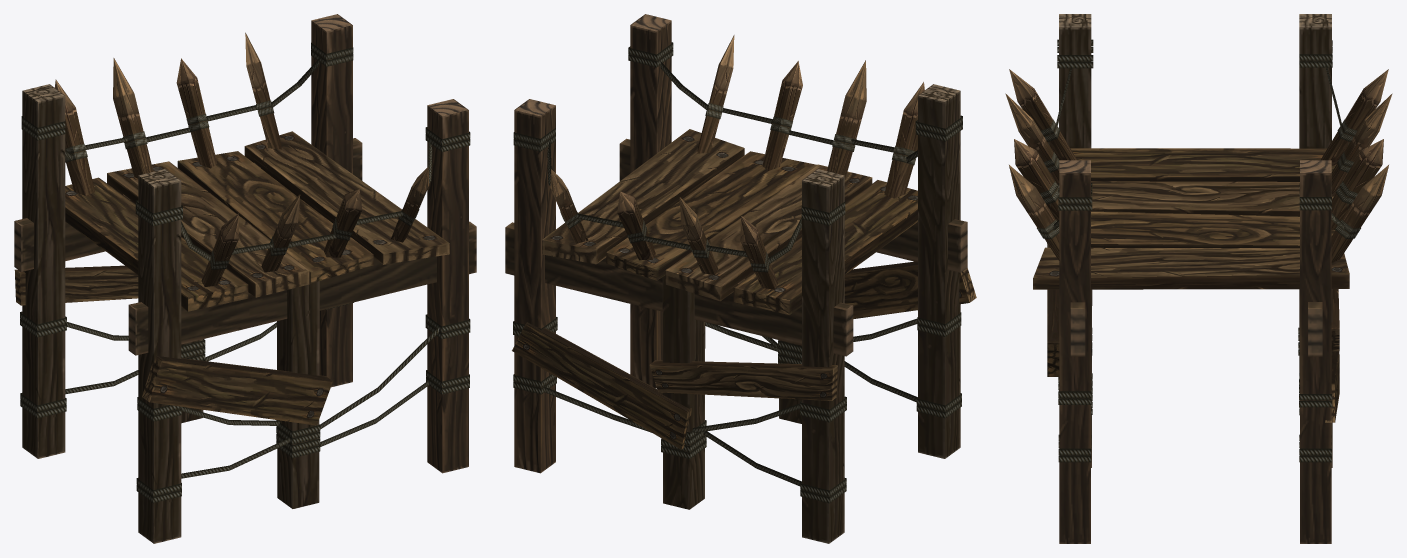
Rendered from mobile_scaffolding_02.fbx.
3 renders of one model, left to right at view 1: azimuth 30°, elevation 25°; view 2: azimuth 150°, elevation 25°; view 3: azimuth 270°, elevation 25°, orthographic. The views are drawn at different scales.
Visible parts, largest first — view 1: mobile_scaffolding_02; view 2: mobile_scaffolding_02; view 3: mobile_scaffolding_02.
Boxes of the visible parts, x1,y1,x2,y2 form: mobile_scaffolding_02: (14,14,476,543); mobile_scaffolding_02: (505,14,976,543); mobile_scaffolding_02: (1005,14,1392,543).
Bounding box in the file's own units: 400 × 400 × 379.
